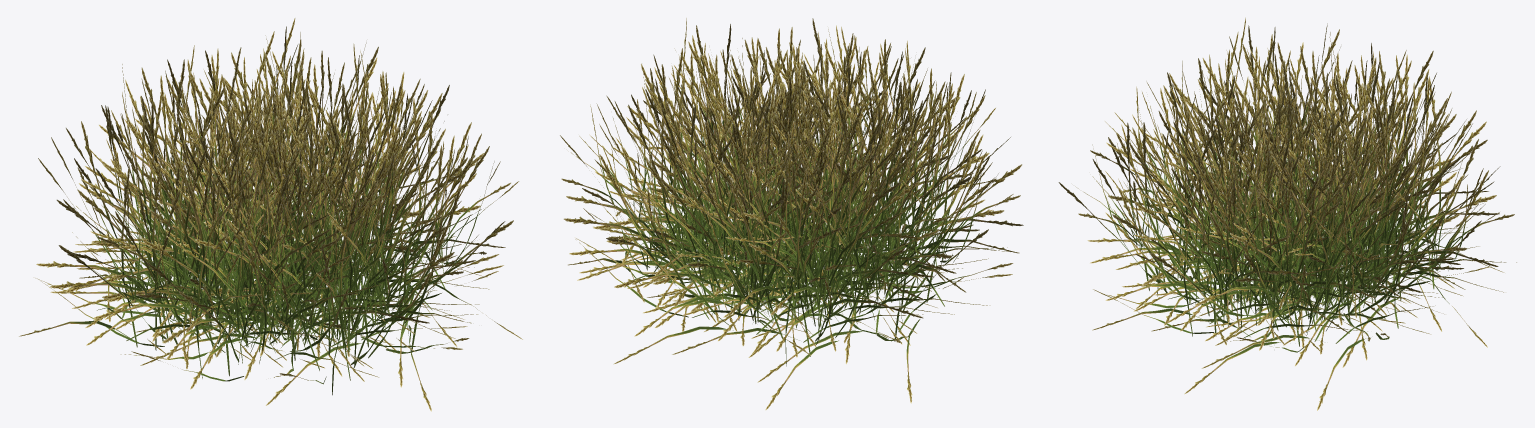
The model's file is Tussock_Sedge.glb.
3 views of the same model, side by side, from view 1: azimuth 30°, elevation 25°; view 2: azimuth 150°, elevation 25°; view 3: azimuth 270°, elevation 25° (orthographic). The views are drawn at different scales.
Parts seen in each view (by area): view 1: grass-patch; view 2: grass-patch; view 3: grass-patch.
Part boxes in pixels (bbox=[...]): grass-patch: bbox=[19, 18, 522, 411]; grass-patch: bbox=[560, 18, 1023, 410]; grass-patch: bbox=[1058, 17, 1516, 410].
Bounding box in the file's own units: 4.25 × 2.45 × 4.25.
1 material, 1 textured.
